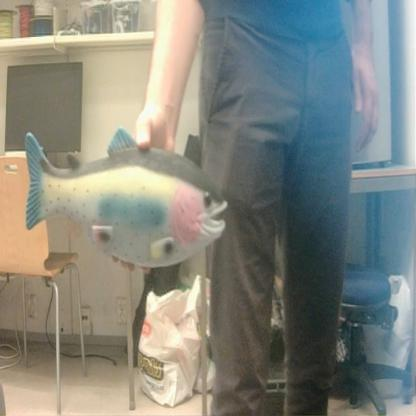rubberfish: (18, 119, 231, 276)
